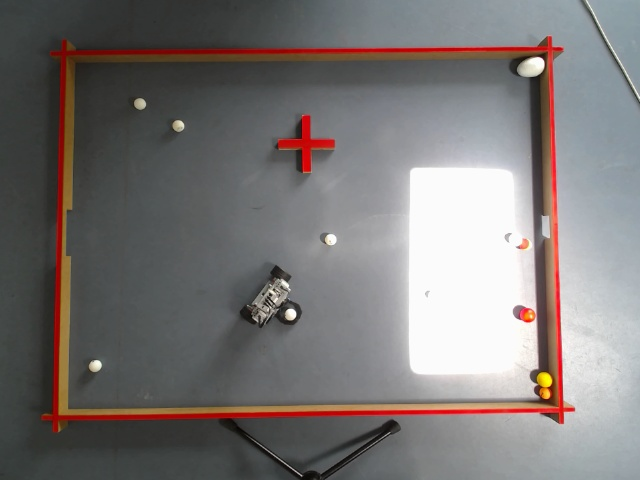big_goal: (56, 207, 72, 257)
cross: (276, 114, 334, 173)
egg: (516, 54, 546, 78)
orange: (538, 387, 552, 399)
robot: (238, 264, 302, 324)
small_goal: (542, 215, 558, 245)
wall: (540, 56, 566, 408), (58, 402, 552, 420), (52, 48, 76, 417), (64, 47, 544, 62)
white: (88, 359, 102, 372), (508, 233, 521, 245), (172, 119, 184, 132), (324, 233, 336, 245), (134, 99, 146, 110), (284, 308, 296, 318), (427, 290, 437, 300)
